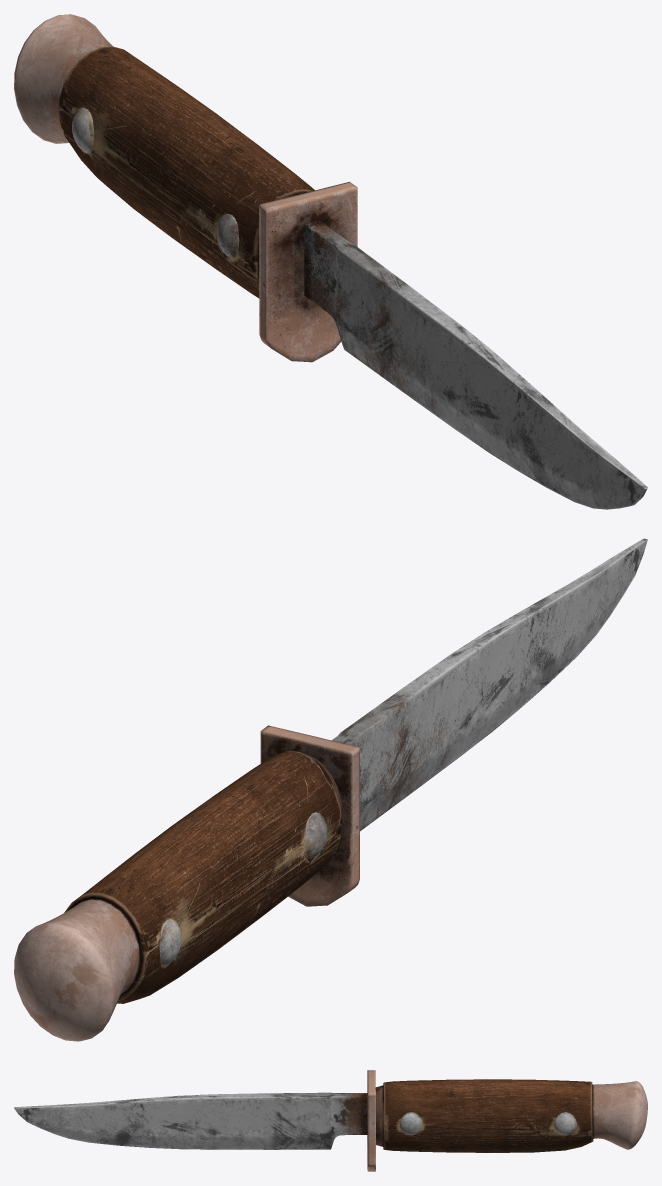
The model's file is PirateKnife.fbx.
3 renders of one model, top to bottom at view 1: azimuth 30°, elevation 25°; view 2: azimuth 150°, elevation 25°; view 3: azimuth 270°, elevation 25°, orthographic. The views are drawn at different scales.
Visible parts, largest first — view 1: knife.Shape; view 2: knife.Shape; view 3: knife.Shape.
Part boxes in pixels (x1,y1,x2,y2): knife.Shape: (14, 14, 647, 509); knife.Shape: (14, 538, 647, 1041); knife.Shape: (14, 1070, 647, 1171).
Bounding box in the file's own units: 2.61 × 4.16 × 27.01.
